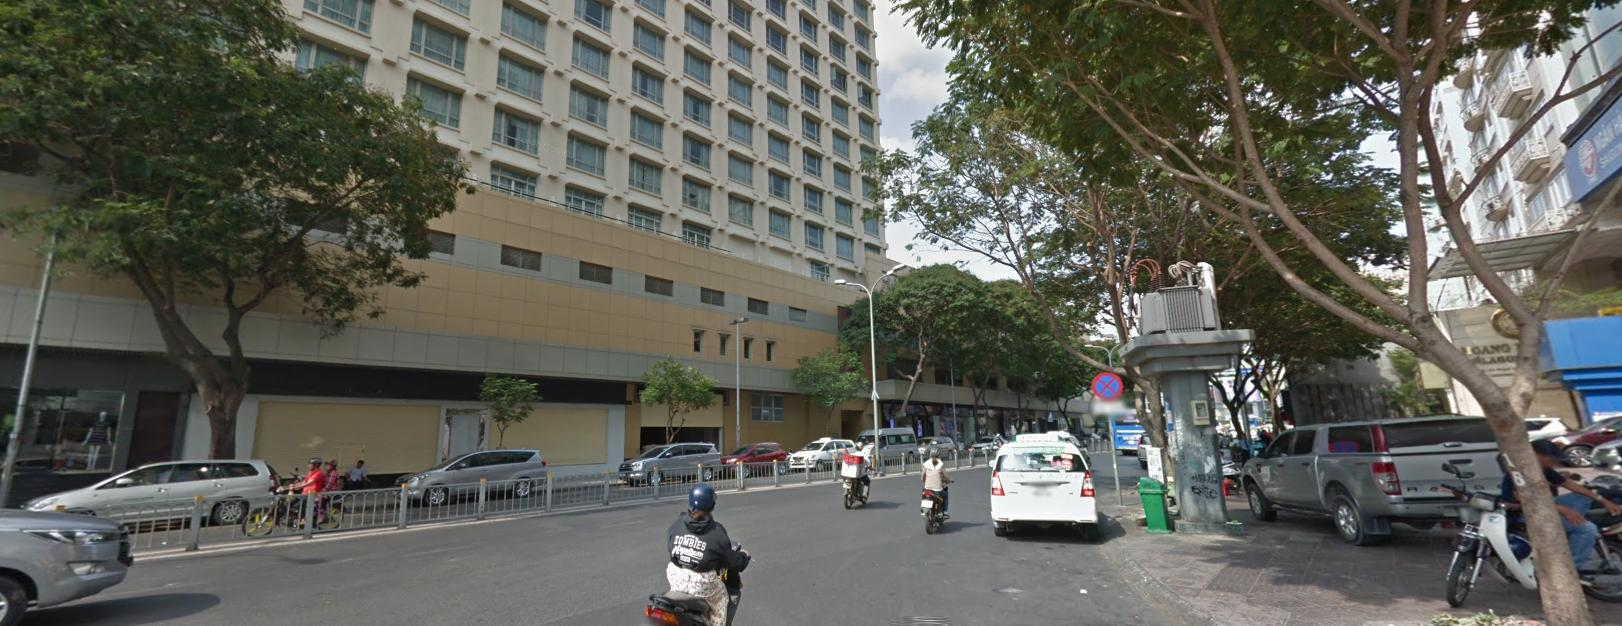Cam dung va do: (1091, 371, 1123, 399)
